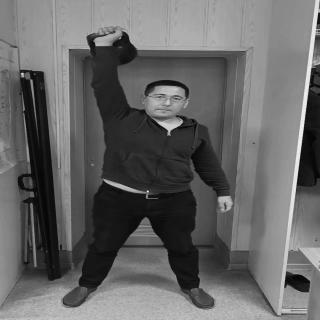kettlebell: (88, 31, 140, 68)
